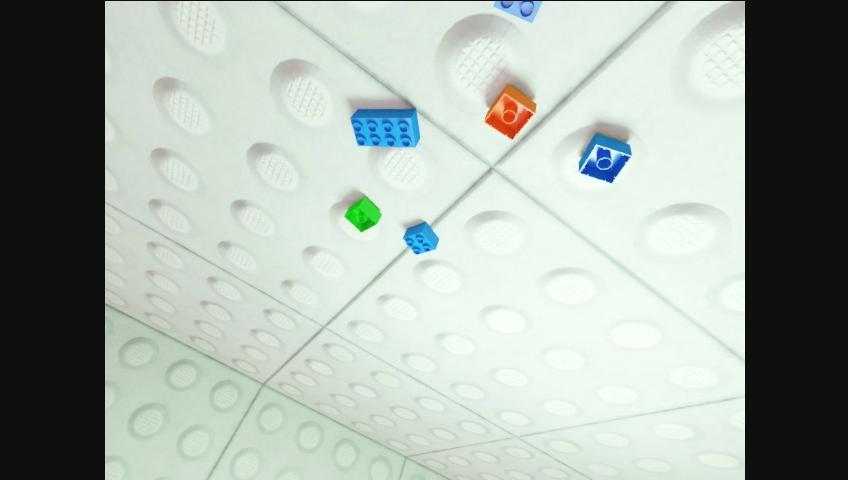2x2_blue: (579, 134, 632, 184), (493, 0, 543, 24), (403, 222, 439, 255)
2x2_green: (344, 197, 382, 233)
2x2_orange: (484, 84, 536, 141)
4x2_blue: (350, 109, 420, 148)
